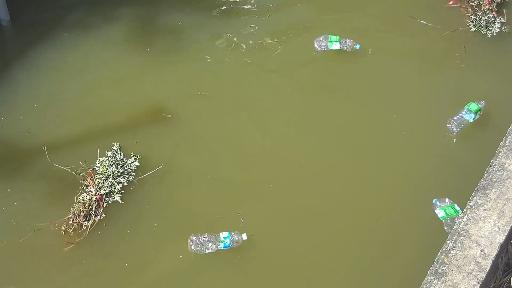plastic: (182, 226, 256, 256), (448, 93, 490, 142), (427, 189, 469, 232), (311, 38, 376, 53)
twig: (39, 130, 166, 235), (450, 0, 510, 54)
